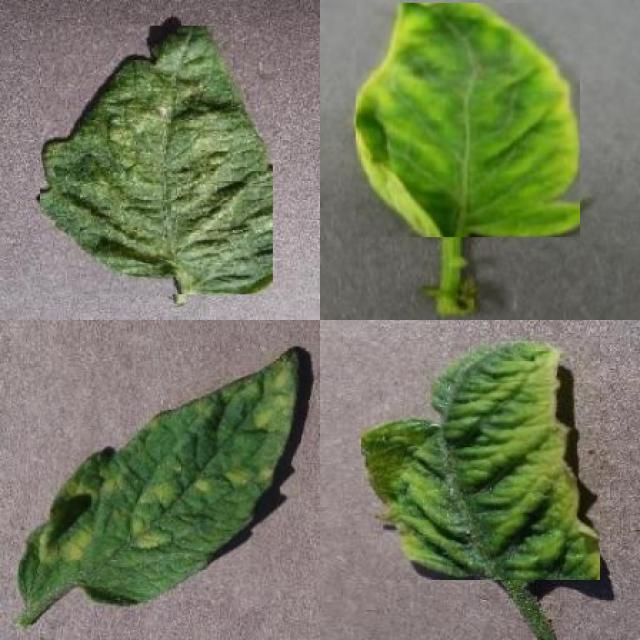Leaf Mold: (18, 351, 302, 608)
Spider Mites: (40, 25, 273, 295)
Yellow Leaf Curl Virus: (360, 338, 600, 581), (356, 3, 580, 238)
